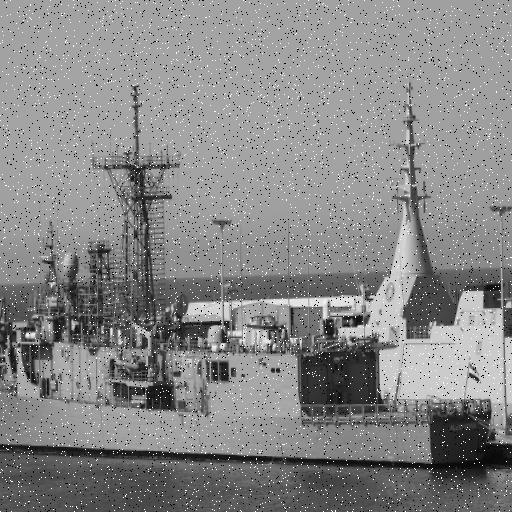Fragata: (1, 62, 499, 483)
